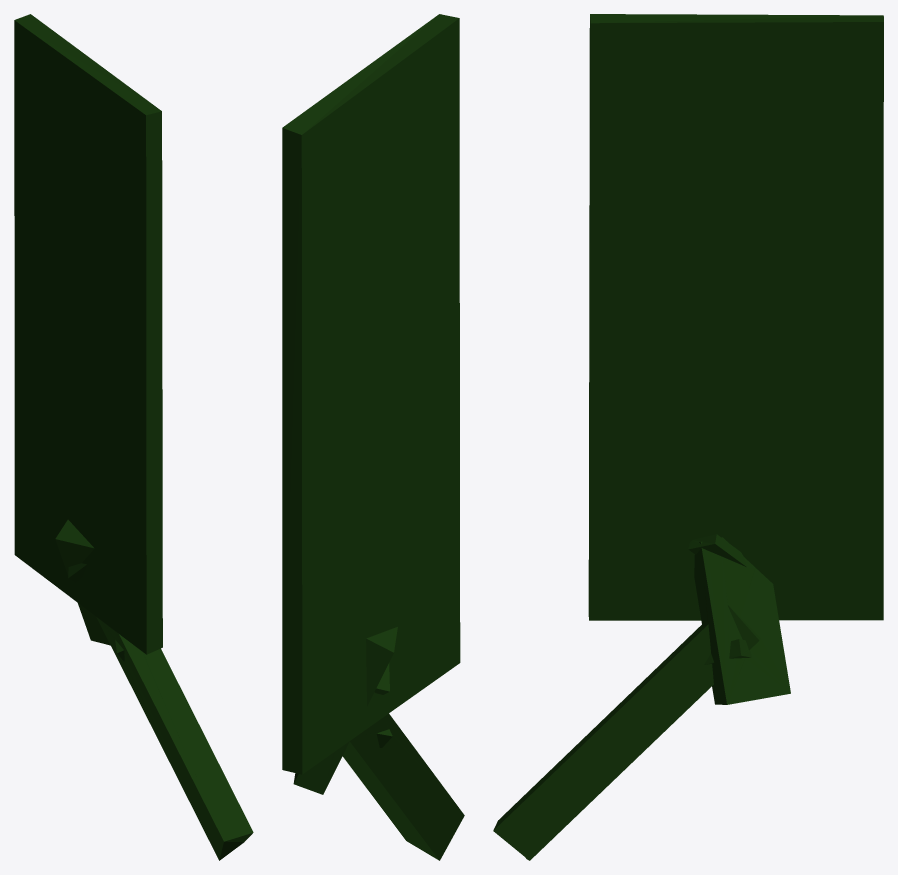
3 views of the same model, side by side, from view 1: azimuth 30°, elevation 25°; view 2: azimuth 150°, elevation 25°; view 3: azimuth 270°, elevation 25° (orthographic). The views are drawn at different scales.
Visible parts, largest first — view 1: 914_Cube.3694; view 2: 914_Cube.3694; view 3: 914_Cube.3694.
Boxes of the visible parts, left/top/right/bottom form: 914_Cube.3694: left=14, top=14, right=253, bottom=860; 914_Cube.3694: left=282, top=14, right=464, bottom=860; 914_Cube.3694: left=493, top=14, right=883, bottom=860.
Size of the model in its own units: 2.12 by 16.43 by 7.08.
